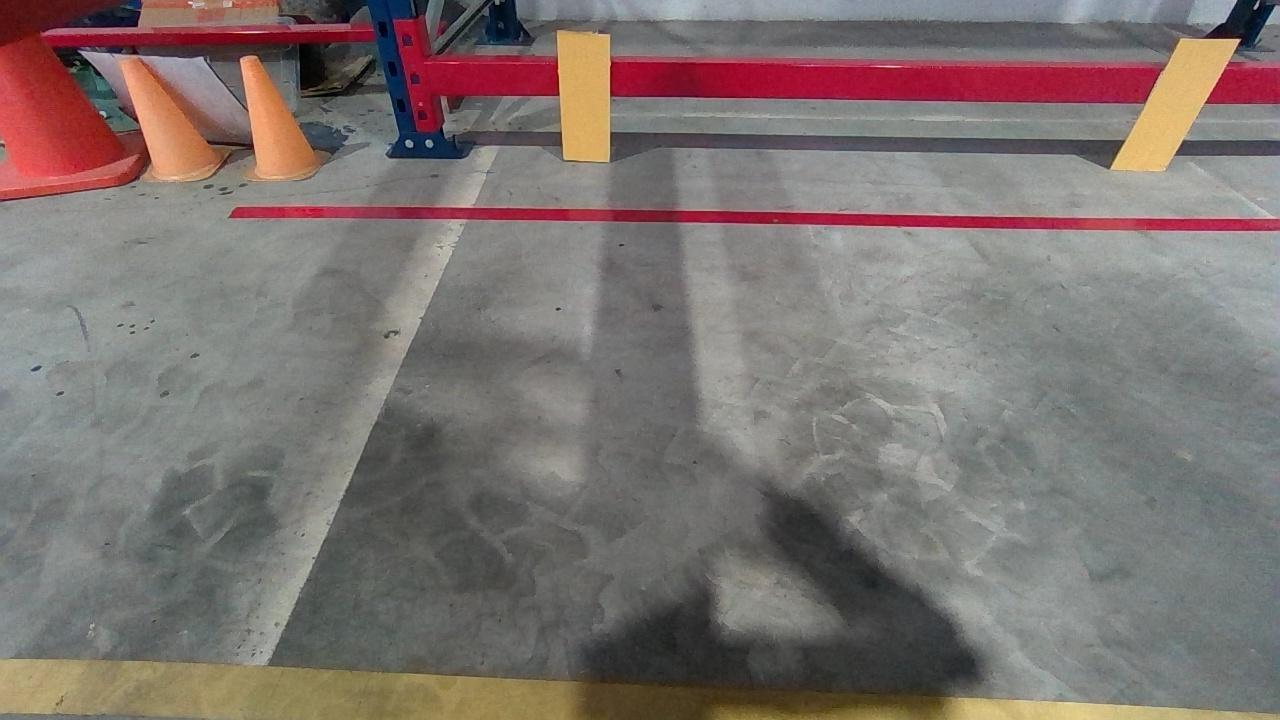h_rack: (430, 54, 1279, 105)
orange_strip: (1108, 36, 1230, 170), (554, 33, 611, 160)
red_line: (221, 201, 1279, 232)
yellow_line: (0, 657, 1274, 720)
